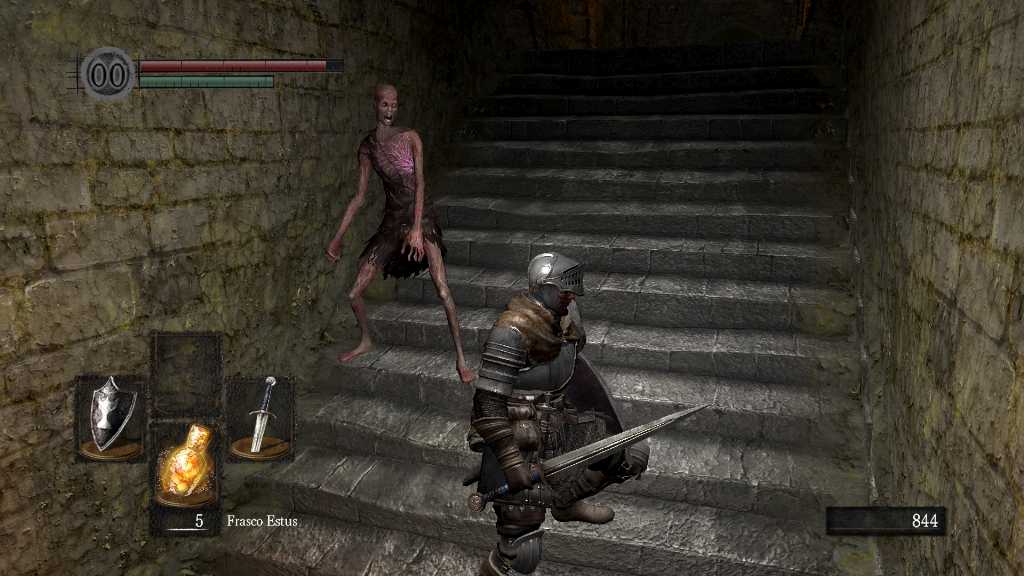health: (138, 58, 343, 71)
hollow: (322, 84, 478, 381)
humanity: (80, 45, 136, 102)
player: (462, 253, 709, 576)
souls: (825, 506, 945, 536)
stamina: (138, 74, 274, 88)
